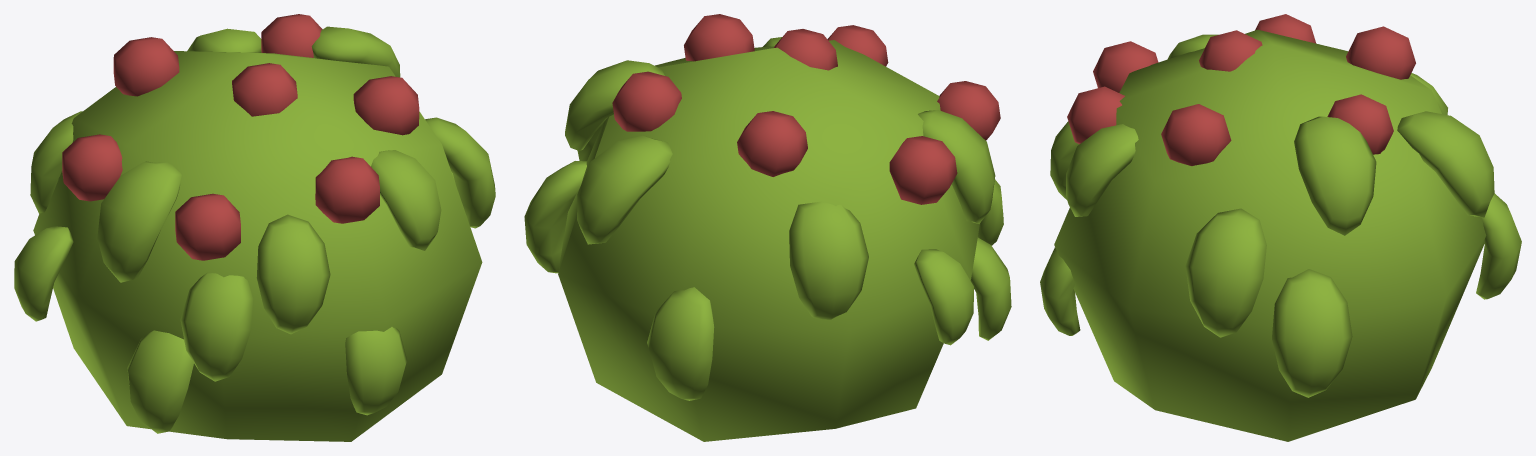
File: Bush.fbx
3 views of the same model, side by side, from view 1: azimuth 30°, elevation 25°; view 2: azimuth 150°, elevation 25°; view 3: azimuth 270°, elevation 25° (orthographic).
Visible parts, largest first — view 1: Cube.195; view 2: Cube.195; view 3: Cube.195.
Boxes of the visible parts, x1,y1,x2,y2 form: Cube.195: (14, 14, 495, 441); Cube.195: (524, 14, 1011, 441); Cube.195: (1040, 14, 1521, 441).
Bounding box in the file's own units: 228 × 194 × 219.
